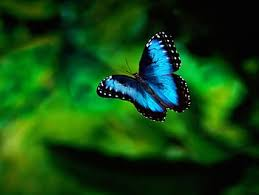Butterfly: (96, 31, 192, 123)
